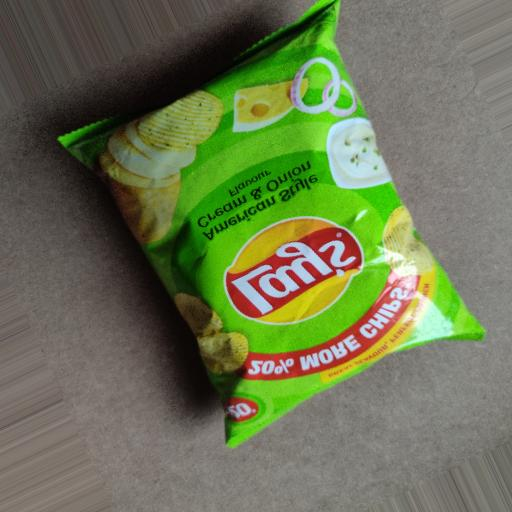Lays Green Small pack (American style cream and onion): (46, 3, 484, 512)
